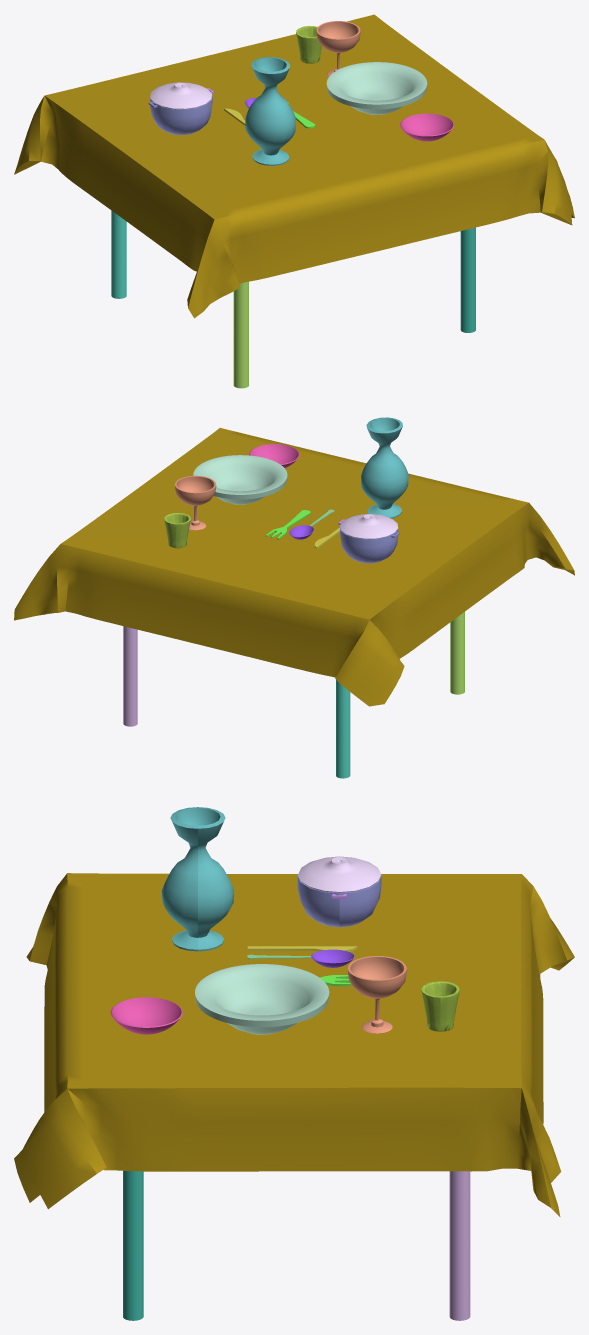
The picture shows the model from 3 angles, top to bottom: view 1: azimuth 30°, elevation 25°; view 2: azimuth 150°, elevation 25°; view 3: azimuth 270°, elevation 25°; orthographic projection. The views are drawn at different scales.
Visible parts, largest first — view 1: Plane001_13 - Default_0, Line002_14 - Default_0, split_parent_0, Cylinder003__0, Cylinder004__0, split_parent_15, Line010_07 - Default_0, Cylinder001__0, split_parent_4, split_parent_2, Line011_03 - Default_0; view 2: Plane001_13 - Default_0, Line002_14 - Default_0, split_parent_0, Cylinder002__0, Cylinder001__0, split_parent_15, split_parent_4, Line010_07 - Default_0, Cylinder004__0, Line011_03 - Default_0, split_parent_2; view 3: Plane001_13 - Default_0, Line002_14 - Default_0, split_parent_0, Cylinder002__0, Cylinder003__0, split_parent_15, split_parent_4, Line010_07 - Default_0, split_parent_2, Line011_03 - Default_0.
Boxes of the visible parts, x1,y1,x2,y2 form: Plane001_13 - Default_0: [14, 14, 574, 318]; Line002_14 - Default_0: [326, 62, 427, 114]; split_parent_0: [245, 57, 296, 165]; Cylinder003__0: [460, 227, 475, 332]; Cylinder004__0: [233, 281, 248, 388]; split_parent_15: [150, 94, 212, 134]; Line010_07 - Default_0: [150, 82, 211, 109]; Cylinder001__0: [111, 210, 126, 298]; split_parent_4: [316, 21, 360, 76]; split_parent_2: [400, 113, 453, 141]; Line011_03 - Default_0: [296, 26, 321, 63]; Plane001_13 - Default_0: [14, 428, 574, 706]; Line002_14 - Default_0: [193, 455, 287, 504]; split_parent_0: [361, 417, 408, 518]; Cylinder002__0: [123, 626, 137, 726]; Cylinder001__0: [336, 680, 350, 778]; split_parent_15: [340, 525, 398, 563]; split_parent_4: [175, 475, 216, 530]; Line010_07 - Default_0: [340, 514, 398, 539]; Cylinder004__0: [450, 612, 464, 694]; Line011_03 - Default_0: [164, 513, 190, 548]; split_parent_2: [249, 444, 299, 467]; Plane001_13 - Default_0: [14, 873, 574, 1216]; Line002_14 - Default_0: [195, 964, 329, 1034]; split_parent_0: [161, 807, 234, 951]; Cylinder002__0: [449, 1171, 470, 1320]; Cylinder003__0: [123, 1170, 143, 1320]; split_parent_15: [297, 875, 381, 927]; split_parent_4: [348, 956, 406, 1033]; Line010_07 - Default_0: [298, 856, 381, 892]; split_parent_2: [110, 997, 182, 1034]; Line011_03 - Default_0: [421, 981, 459, 1031].
Size of the model in its own units: 1 by 0.6822 by 0.8971.
